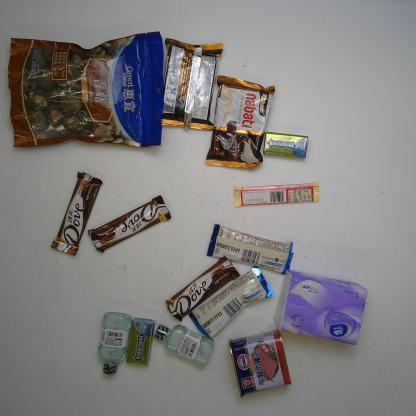Canned Food: (228, 329, 292, 398)
Chocolate: (188, 265, 274, 339), (166, 256, 242, 322), (86, 195, 172, 252), (206, 223, 294, 275), (50, 171, 103, 256), (233, 182, 320, 208)
Dessert: (204, 73, 276, 170), (160, 37, 223, 132)
Dried Food: (6, 30, 164, 148)
Gum: (126, 317, 155, 366), (263, 131, 309, 159)
Personal Hygiene: (153, 324, 215, 366), (97, 312, 132, 375)
Tissue: (275, 269, 368, 345)
